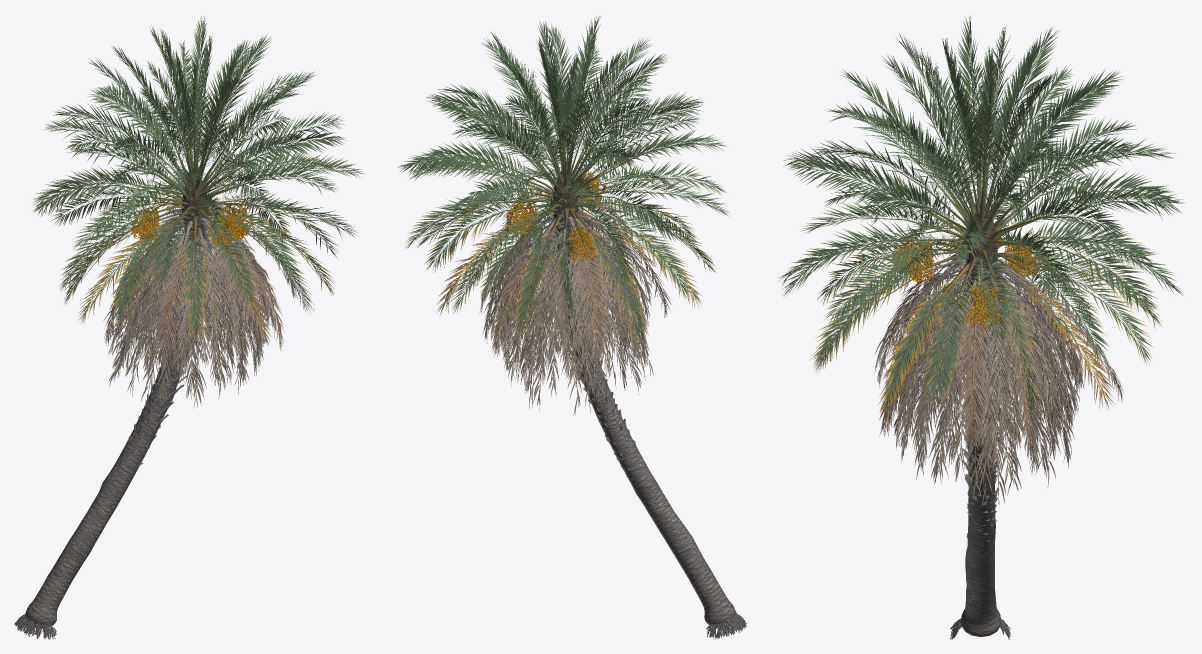
File: Phoenix dactylifera HD_Curved mat 75_LOD2.fbx
3 renders of one model, left to right at view 1: azimuth 30°, elevation 25°; view 2: azimuth 150°, elevation 25°; view 3: azimuth 270°, elevation 25°, orthographic. The views are drawn at different scales.
Visible parts, largest first — view 1: Phoenix_dactylifera_HD; view 2: Phoenix_dactylifera_HD; view 3: Phoenix_dactylifera_HD.
Part boxes in pixels (x1=…): Phoenix_dactylifera_HD: x1=14, y1=16, x2=363, y2=639; Phoenix_dactylifera_HD: x1=398, y1=16, x2=747, y2=639; Phoenix_dactylifera_HD: x1=778, y1=15, x2=1184, y2=639.
Bounding box in the file's own units: 8.26 × 13.35 × 7.19.
18 materials, 18 textured.
